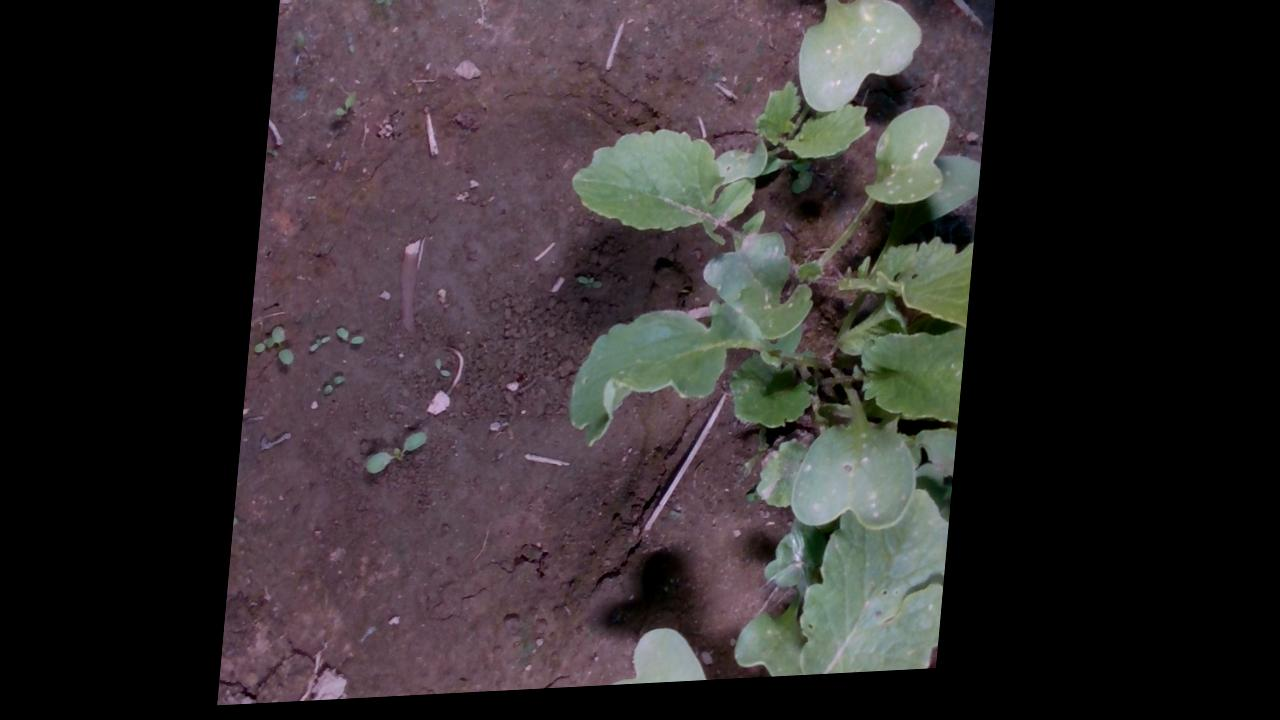weed: (373, 434, 437, 477), (342, 328, 374, 347), (337, 93, 360, 119), (330, 376, 354, 398), (581, 280, 613, 295), (442, 361, 460, 382), (315, 339, 338, 355), (374, 0, 406, 9)
